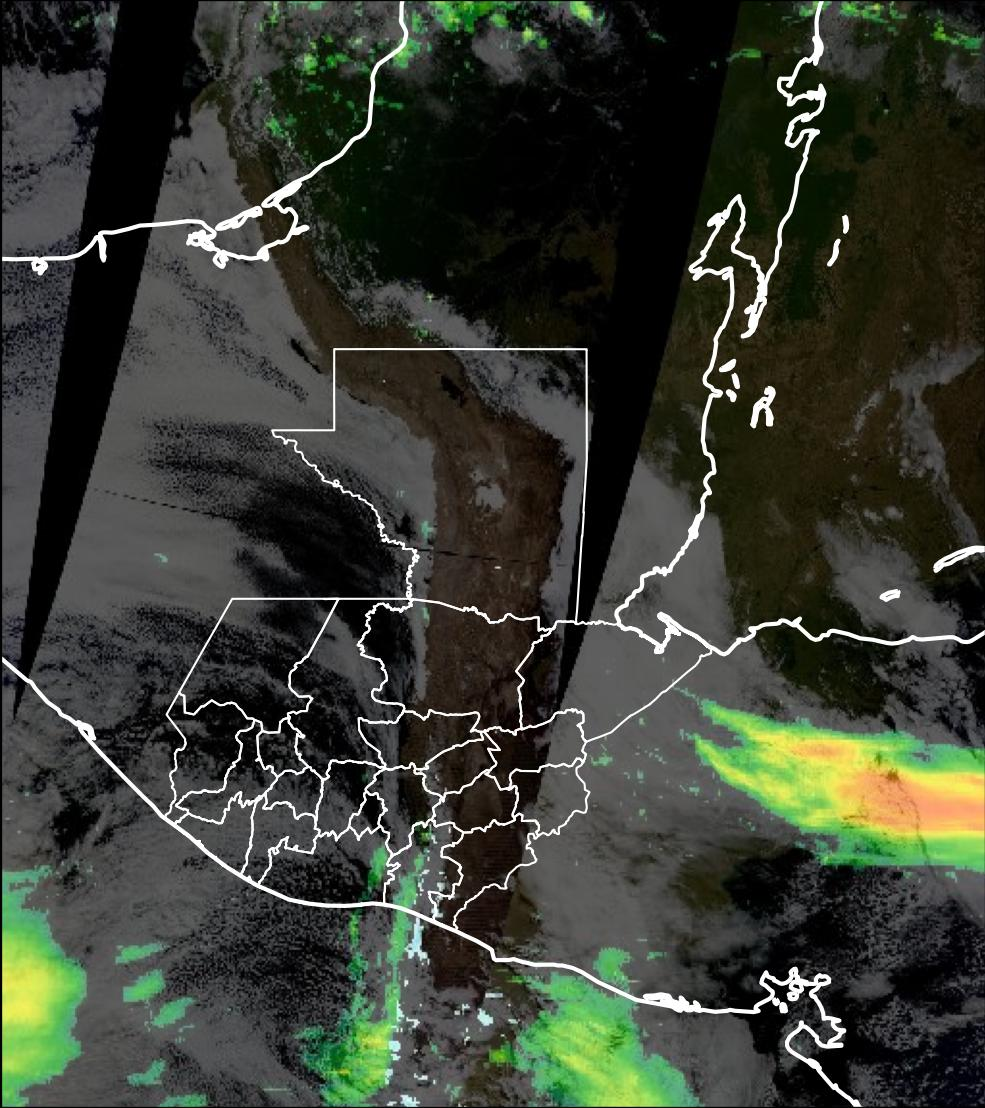precipitacion: (766, 727, 985, 862)
